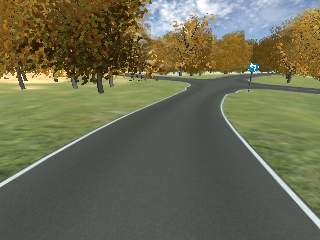left: (248, 63, 258, 73)
